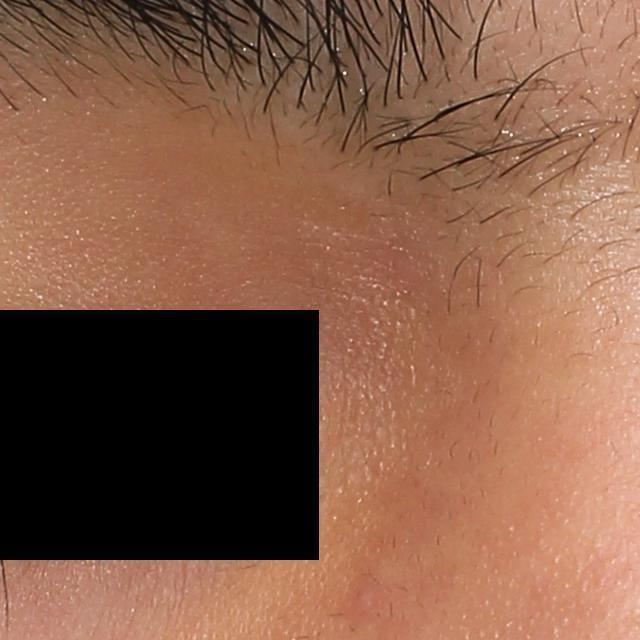papule: (346, 585, 380, 619)
